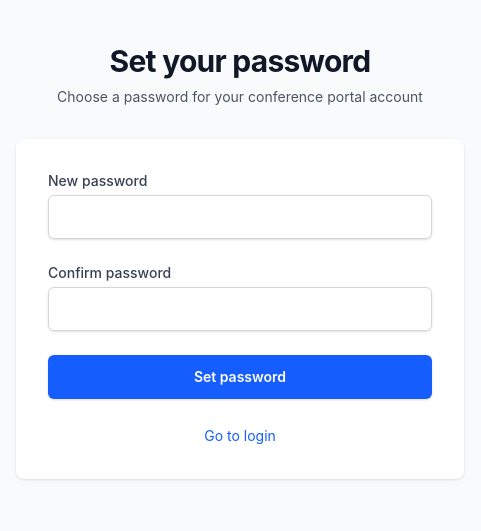
Test case: SetPasswordPage › shows "Link expired" error on 400 response
The width and height of the screenshot is (481, 531).
Type "Str0ng!Pass" into the password field labelled "New password".
click(240, 217); type("Str0ng!Pass")  # box [48,195,432,239]
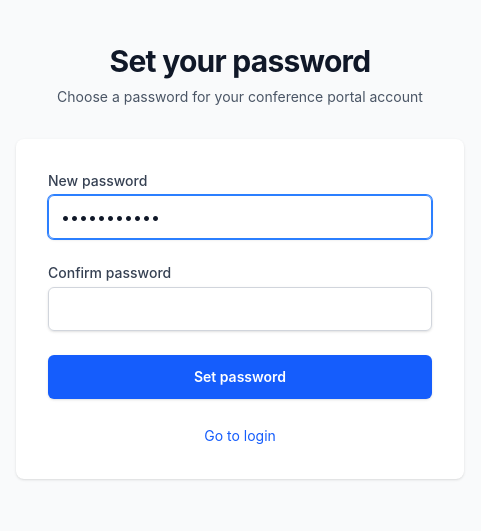
Type "Str0ng!Pass" into the password field labelled "Confirm password".
click(240, 309); type("Str0ng!Pass")  # box [48,287,432,331]
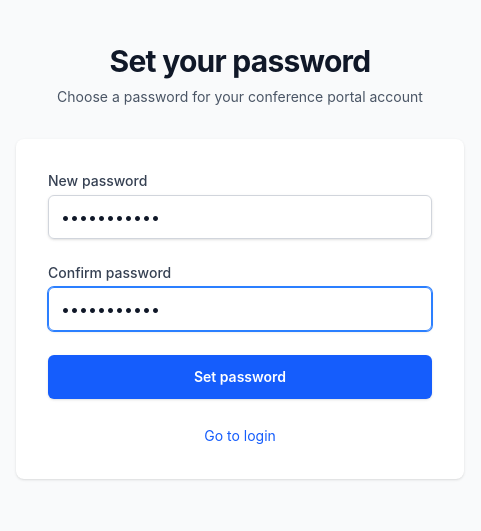
Click the button "Set password".
click(240, 377)  # box [48,355,432,399]
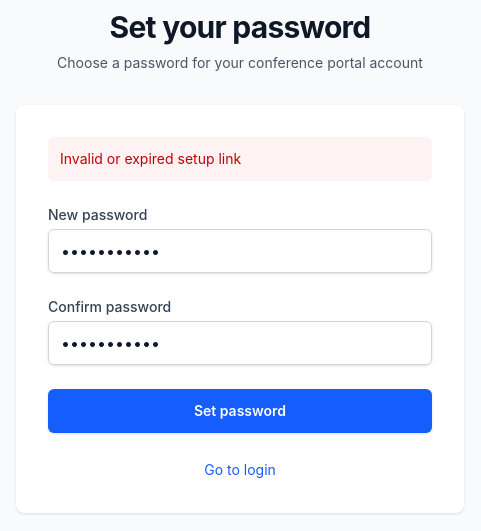
Expected: the message shows "expired", [60,150,241,167]
